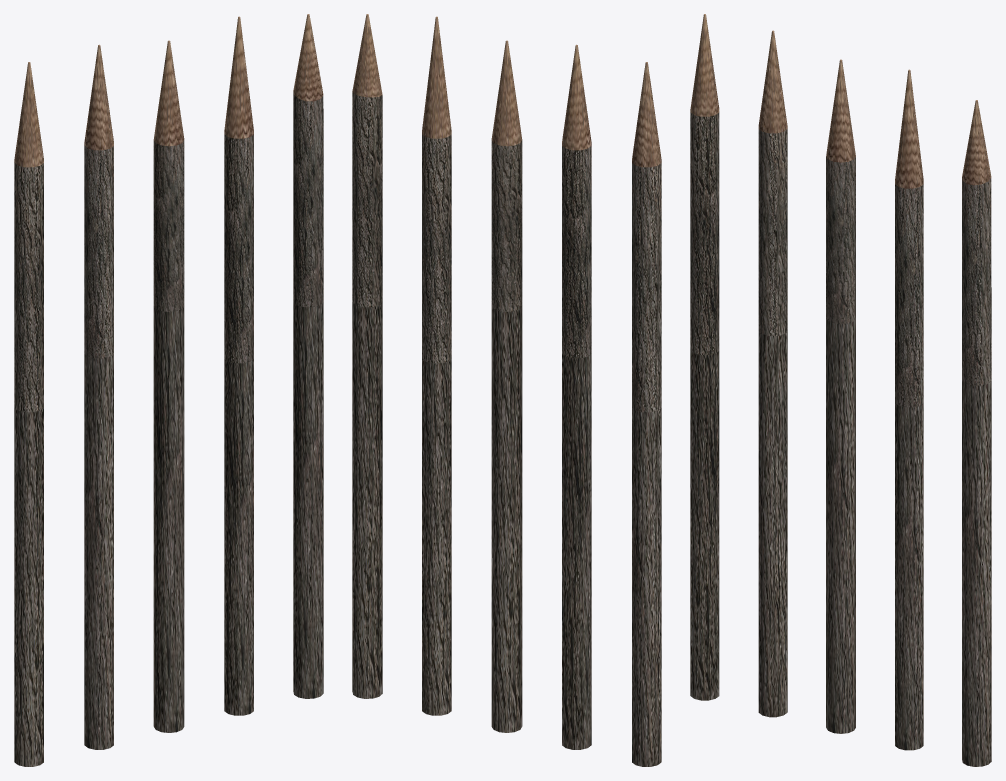
Rendered from Spikes.obj.
3 views of the same model, side by side, from view 1: azimuth 30°, elevation 25°; view 2: azimuth 150°, elevation 25°; view 3: azimuth 330°, elevation 25° (orthographic). The views are drawn at different scales.
Visible parts, largest first — view 1: Cylinder006, Cylinder007, Cylinder009, Cylinder010, Cylinder008; view 2: Cylinder006, Cylinder007, Cylinder009, Cylinder010, Cylinder008; view 3: Cylinder009, Cylinder010, Cylinder007, Cylinder006, Cylinder008.
Part boxes in pixels (box(x1,y1,x2,y2)): Cylinder006: box(153, 40, 184, 732); Cylinder007: box(293, 14, 323, 698); Cylinder009: box(84, 44, 113, 749); Cylinder010: box(14, 62, 43, 766); Cylinder008: box(224, 16, 253, 715); Cylinder006: box(491, 40, 522, 732); Cylinder007: box(352, 14, 382, 698); Cylinder009: box(562, 44, 591, 749); Cylinder010: box(632, 62, 661, 766); Cylinder008: box(422, 16, 451, 715); Cylinder009: box(758, 30, 787, 717); Cylinder010: box(690, 14, 719, 700); Cylinder007: box(962, 100, 991, 766); Cylinder006: box(826, 59, 855, 733); Cylinder008: box(895, 69, 923, 750).
Size of the model in its own units: 0.7604 by 1.66 by 0.0663.
1 material, 1 textured.
